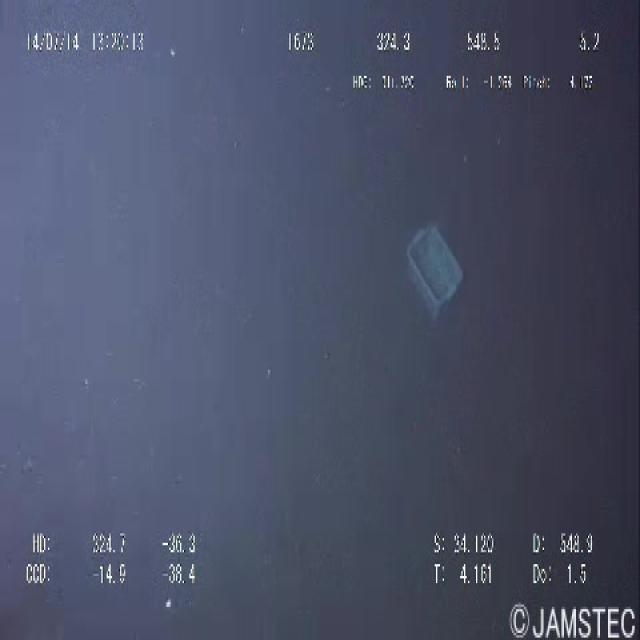plastic: (391, 192, 480, 339)
